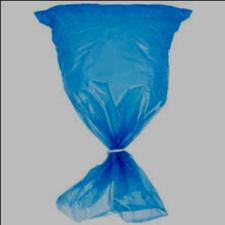Plastic: (30, 1, 197, 224)
